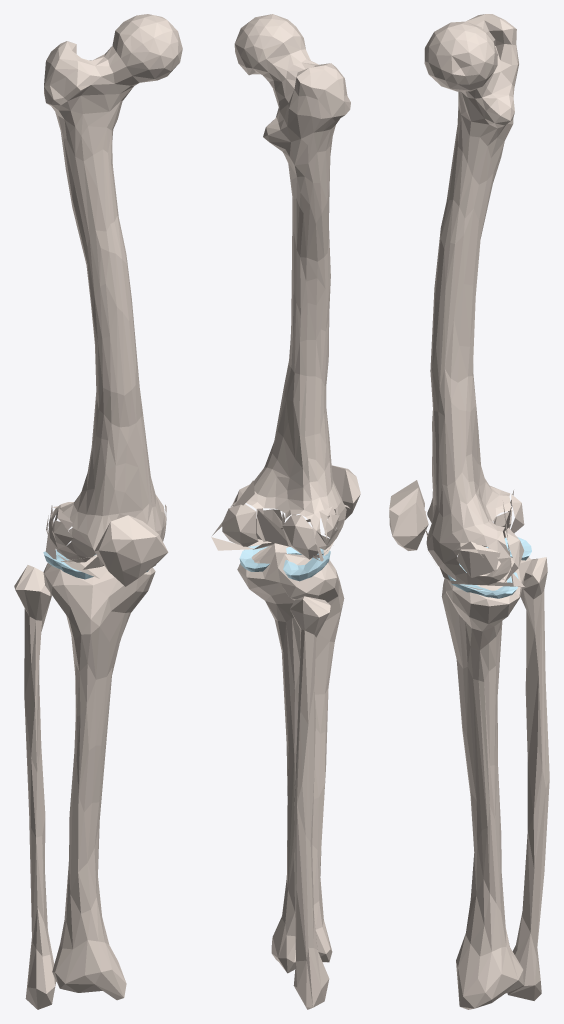
File: VH_F_Knee_R_0.1.glb
3 views of the same model, side by side, from view 1: azimuth 30°, elevation 25°; view 2: azimuth 150°, elevation 25°; view 3: azimuth 270°, elevation 25° (orthographic). The views are drawn at different scales.
Parts seen in each view (by area): view 1: VH_F_femur_R, VH_F_tibia_R, VH_F_fibula_R, VH_F_patella_R, VH_F_articular_cartilage_of_knee_R, VH_F_meniscus_R; view 2: VH_F_femur_R, VH_F_tibia_R, VH_F_fibula_R, VH_F_articular_cartilage_of_knee_R, VH_F_meniscus_R, VH_F_medial_condyle_of_right_femur_inf, VH_F_lateral_condyle_of_femur_inf_R, VH_F_patella_R; view 3: VH_F_femur_R, VH_F_tibia_R, VH_F_fibula_R, VH_F_patella_R, VH_F_meniscus_R, VH_F_medial_perichondular_surface_R, VH_F_articular_cartilage_of_knee_R, VH_F_medial_condyle_of_right_femur_inf, VH_F_medial_epicondylar_enthesis_R.
Part boxes in pixels (left/top/right/bottom): VH_F_femur_R: left=44, top=14, right=182, bottom=562; VH_F_tibia_R: left=43, top=558, right=155, bottom=1000; VH_F_fibula_R: left=14, top=565, right=56, bottom=1009; VH_F_patella_R: left=94, top=515, right=168, bottom=586; VH_F_articular_cartilage_of_knee_R: left=45, top=505, right=156, bottom=578; VH_F_meniscus_R: left=43, top=550, right=148, bottom=579; VH_F_femur_R: left=230, top=14, right=350, bottom=549; VH_F_tibia_R: left=237, top=543, right=344, bottom=973; VH_F_fibula_R: left=290, top=596, right=330, bottom=1009; VH_F_articular_cartilage_of_knee_R: left=211, top=480, right=349, bottom=561; VH_F_meniscus_R: left=239, top=545, right=330, bottom=581; VH_F_medial_condyle_of_right_femur_inf: left=222, top=504, right=258, bottom=546; VH_F_lateral_condyle_of_femur_inf_R: left=282, top=515, right=319, bottom=559; VH_F_patella_R: left=327, top=465, right=360, bottom=524; VH_F_femur_R: left=424, top=14, right=518, bottom=584; VH_F_tibia_R: left=441, top=548, right=532, bottom=1009; VH_F_fibula_R: left=507, top=557, right=549, bottom=1000; VH_F_patella_R: left=389, top=480, right=428, bottom=550; VH_F_meniscus_R: left=447, top=537, right=531, bottom=598; VH_F_medial_perichondular_surface_R: left=456, top=550, right=494, bottom=577; VH_F_articular_cartilage_of_knee_R: left=424, top=490, right=524, bottom=586; VH_F_medial_condyle_of_right_femur_inf: left=504, top=528, right=524, bottom=582; VH_F_medial_epicondylar_enthesis_R: left=457, top=541, right=500, bottom=569.
Size of the model in its own units: 0.1079 by 0.7727 by 0.1109.
